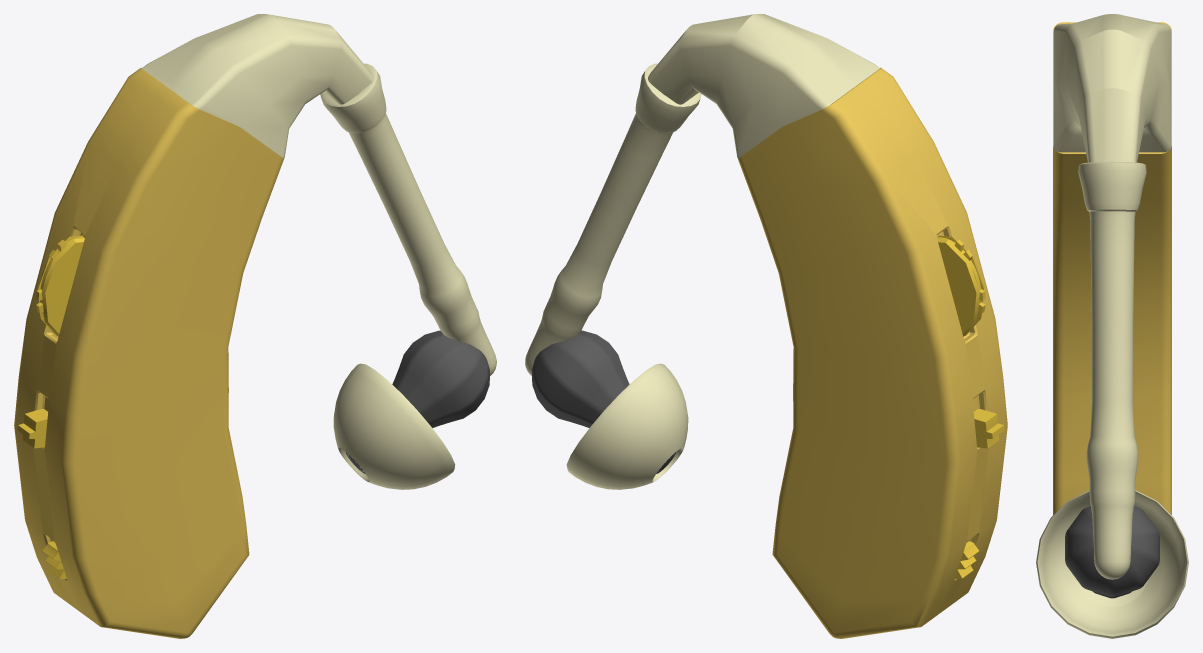
The model's file is hearingaid.glb.
3 views of the same model, side by side, from view 1: azimuth 30°, elevation 25°; view 2: azimuth 150°, elevation 25°; view 3: azimuth 270°, elevation 25° (orthographic). The views are drawn at different scales.
Visible parts, largest first — view 1: hearing _Material.003_0, hearing _Material.001_0, hearing _Material.002_0, hearing _Material.004_0; view 2: hearing _Material.003_0, hearing _Material.001_0, hearing _Material.002_0, hearing _Material.004_0; view 3: hearing _Material.001_0, hearing _Material.003_0, hearing _Material.002_0.
Boxes of the visible parts, box(x1,y1,x2,y2) form: hearing _Material.003_0: box(14, 67, 283, 638); hearing _Material.001_0: box(142, 14, 496, 489); hearing _Material.002_0: box(346, 330, 489, 473); hearing _Material.004_0: box(17, 235, 84, 578); hearing _Material.003_0: box(738, 67, 1007, 638); hearing _Material.001_0: box(525, 14, 879, 489); hearing _Material.002_0: box(532, 330, 675, 473); hearing _Material.004_0: box(937, 235, 1004, 578); hearing _Material.001_0: box(1036, 14, 1188, 638); hearing _Material.003_0: box(1053, 22, 1171, 514); hearing _Material.002_0: box(1065, 506, 1159, 598).
Size of the model in its own units: 85.31 by 99.99 by 22.55.
